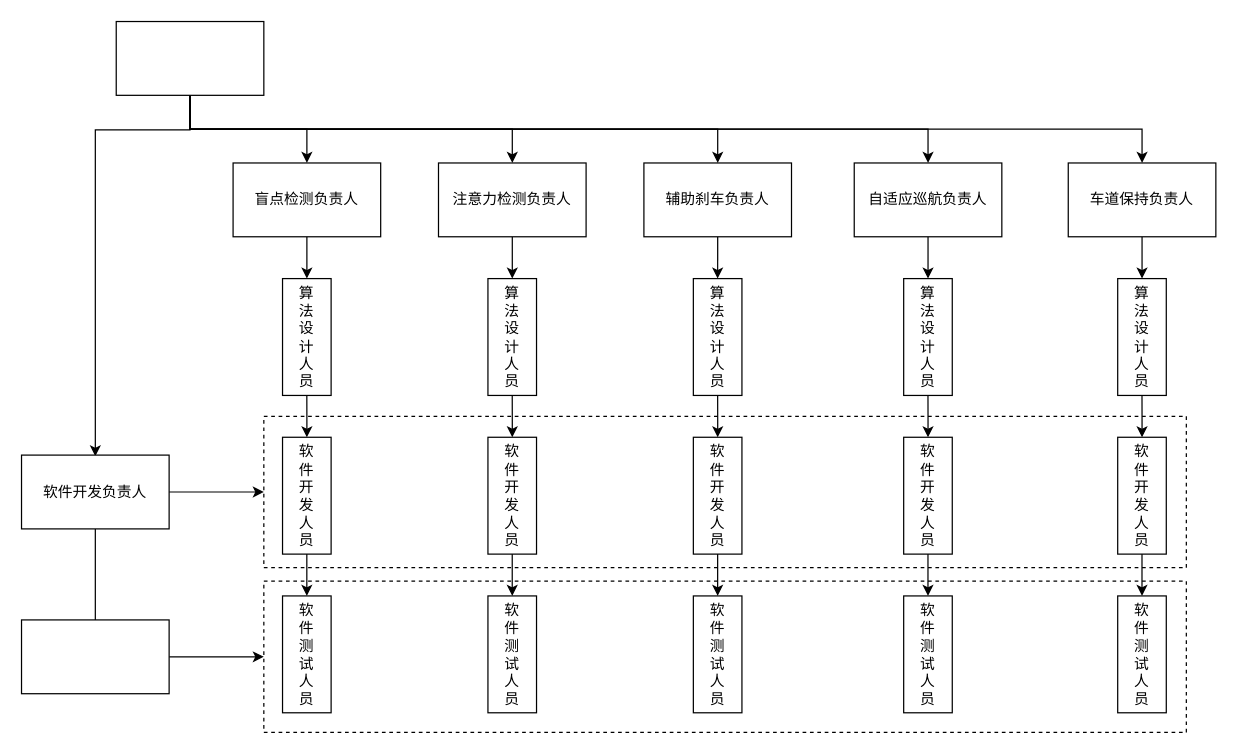
Some shapes in this 1237 by 754 pixel diagram are drawn without their labels. Here are the shapes that lost their labels. From the top down, the box of each, then its label:
(115, 20, 264, 95): 项目经理
(20, 619, 169, 694): 软件测试负责人
